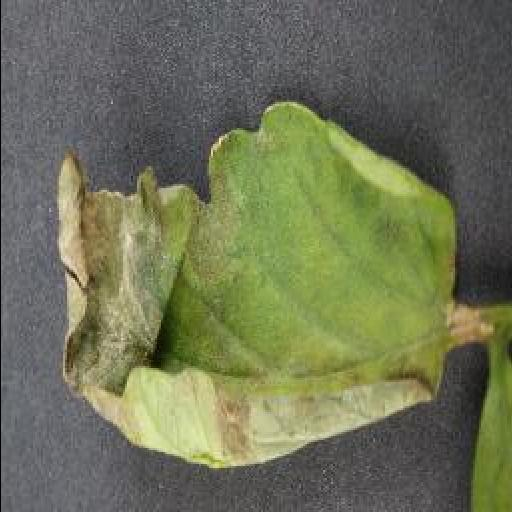disease_tomato: (54, 95, 464, 469)
